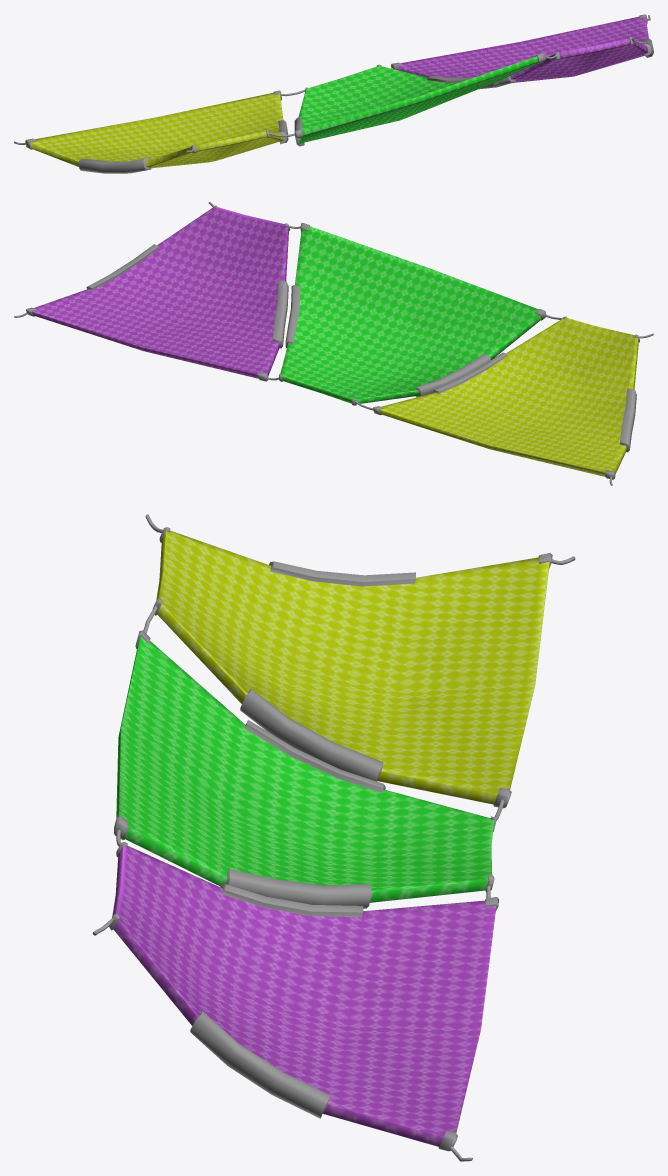
File: SM_Cloth.fbx
3 renders of one model, top to bottom at view 1: azimuth 30°, elevation 25°; view 2: azimuth 150°, elevation 25°; view 3: azimuth 270°, elevation 25°, orthographic. The views are drawn at different scales.
Visible parts, largest first — view 1: SM_Cloth; view 2: SM_Cloth; view 3: SM_Cloth.
Part boxes in pixels (x1=…): SM_Cloth: x1=14, y1=14, x2=653, y2=173; SM_Cloth: x1=14, y1=202, x2=653, y2=485; SM_Cloth: x1=92, y1=514, x2=575, y2=1161.
Size of the model in its own units: 380 by 130 by 48.56.
1 material, 1 textured.
